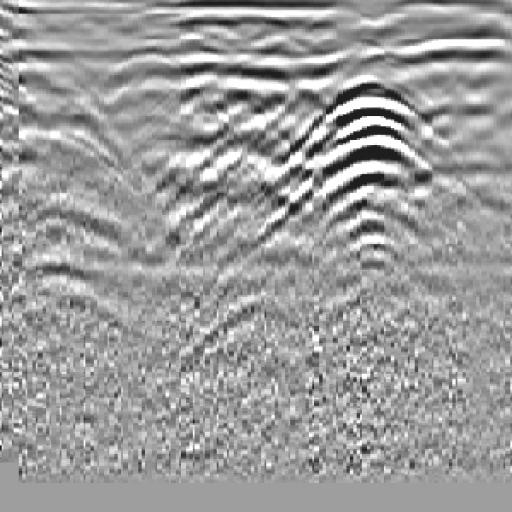metalic: (242, 53, 512, 297)
